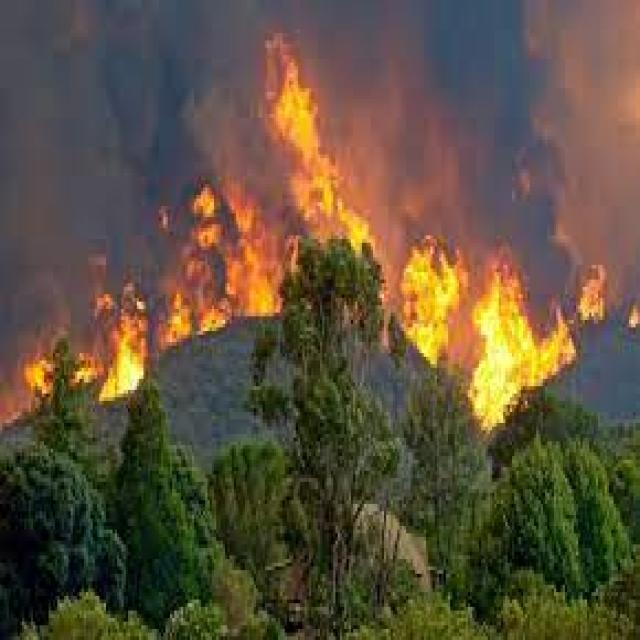Fire: (410, 238, 586, 424), (99, 243, 308, 369), (258, 58, 353, 244)
Smoke: (358, 18, 640, 237), (3, 4, 254, 226)
